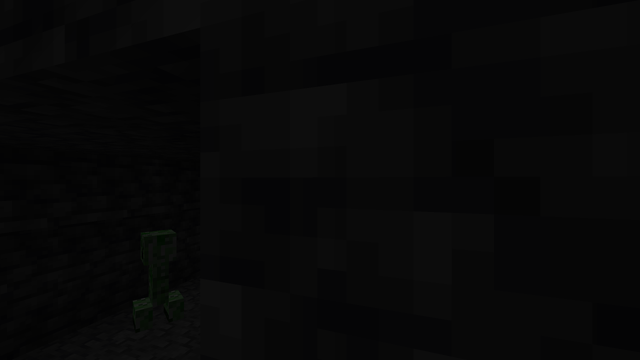creepers: (131, 225, 184, 331)
